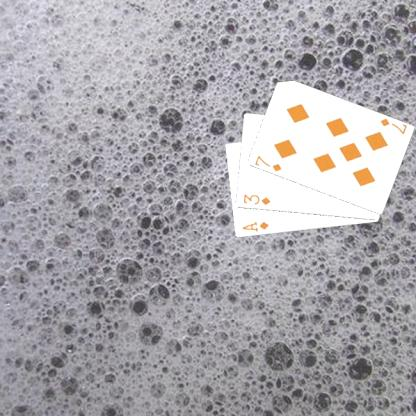3D: (240, 191, 272, 207)
7D: (252, 152, 283, 173), (377, 116, 408, 136)
AD: (239, 219, 270, 233)
